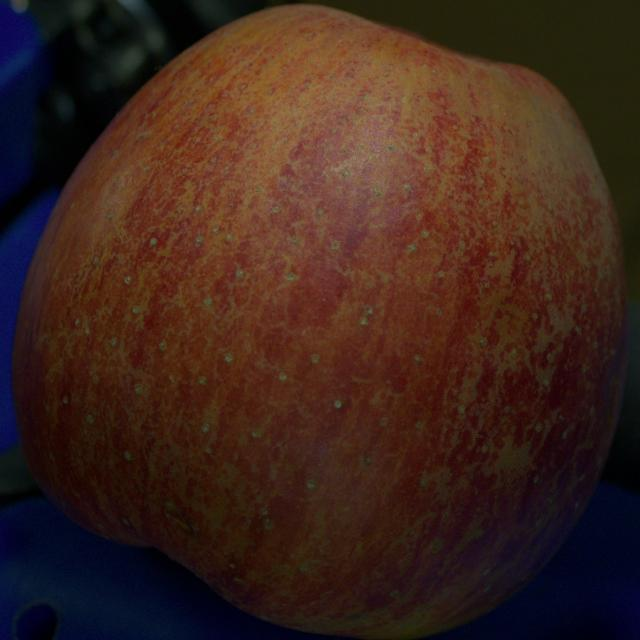apple: (12, 5, 628, 639)
pest: (166, 510, 195, 534)
